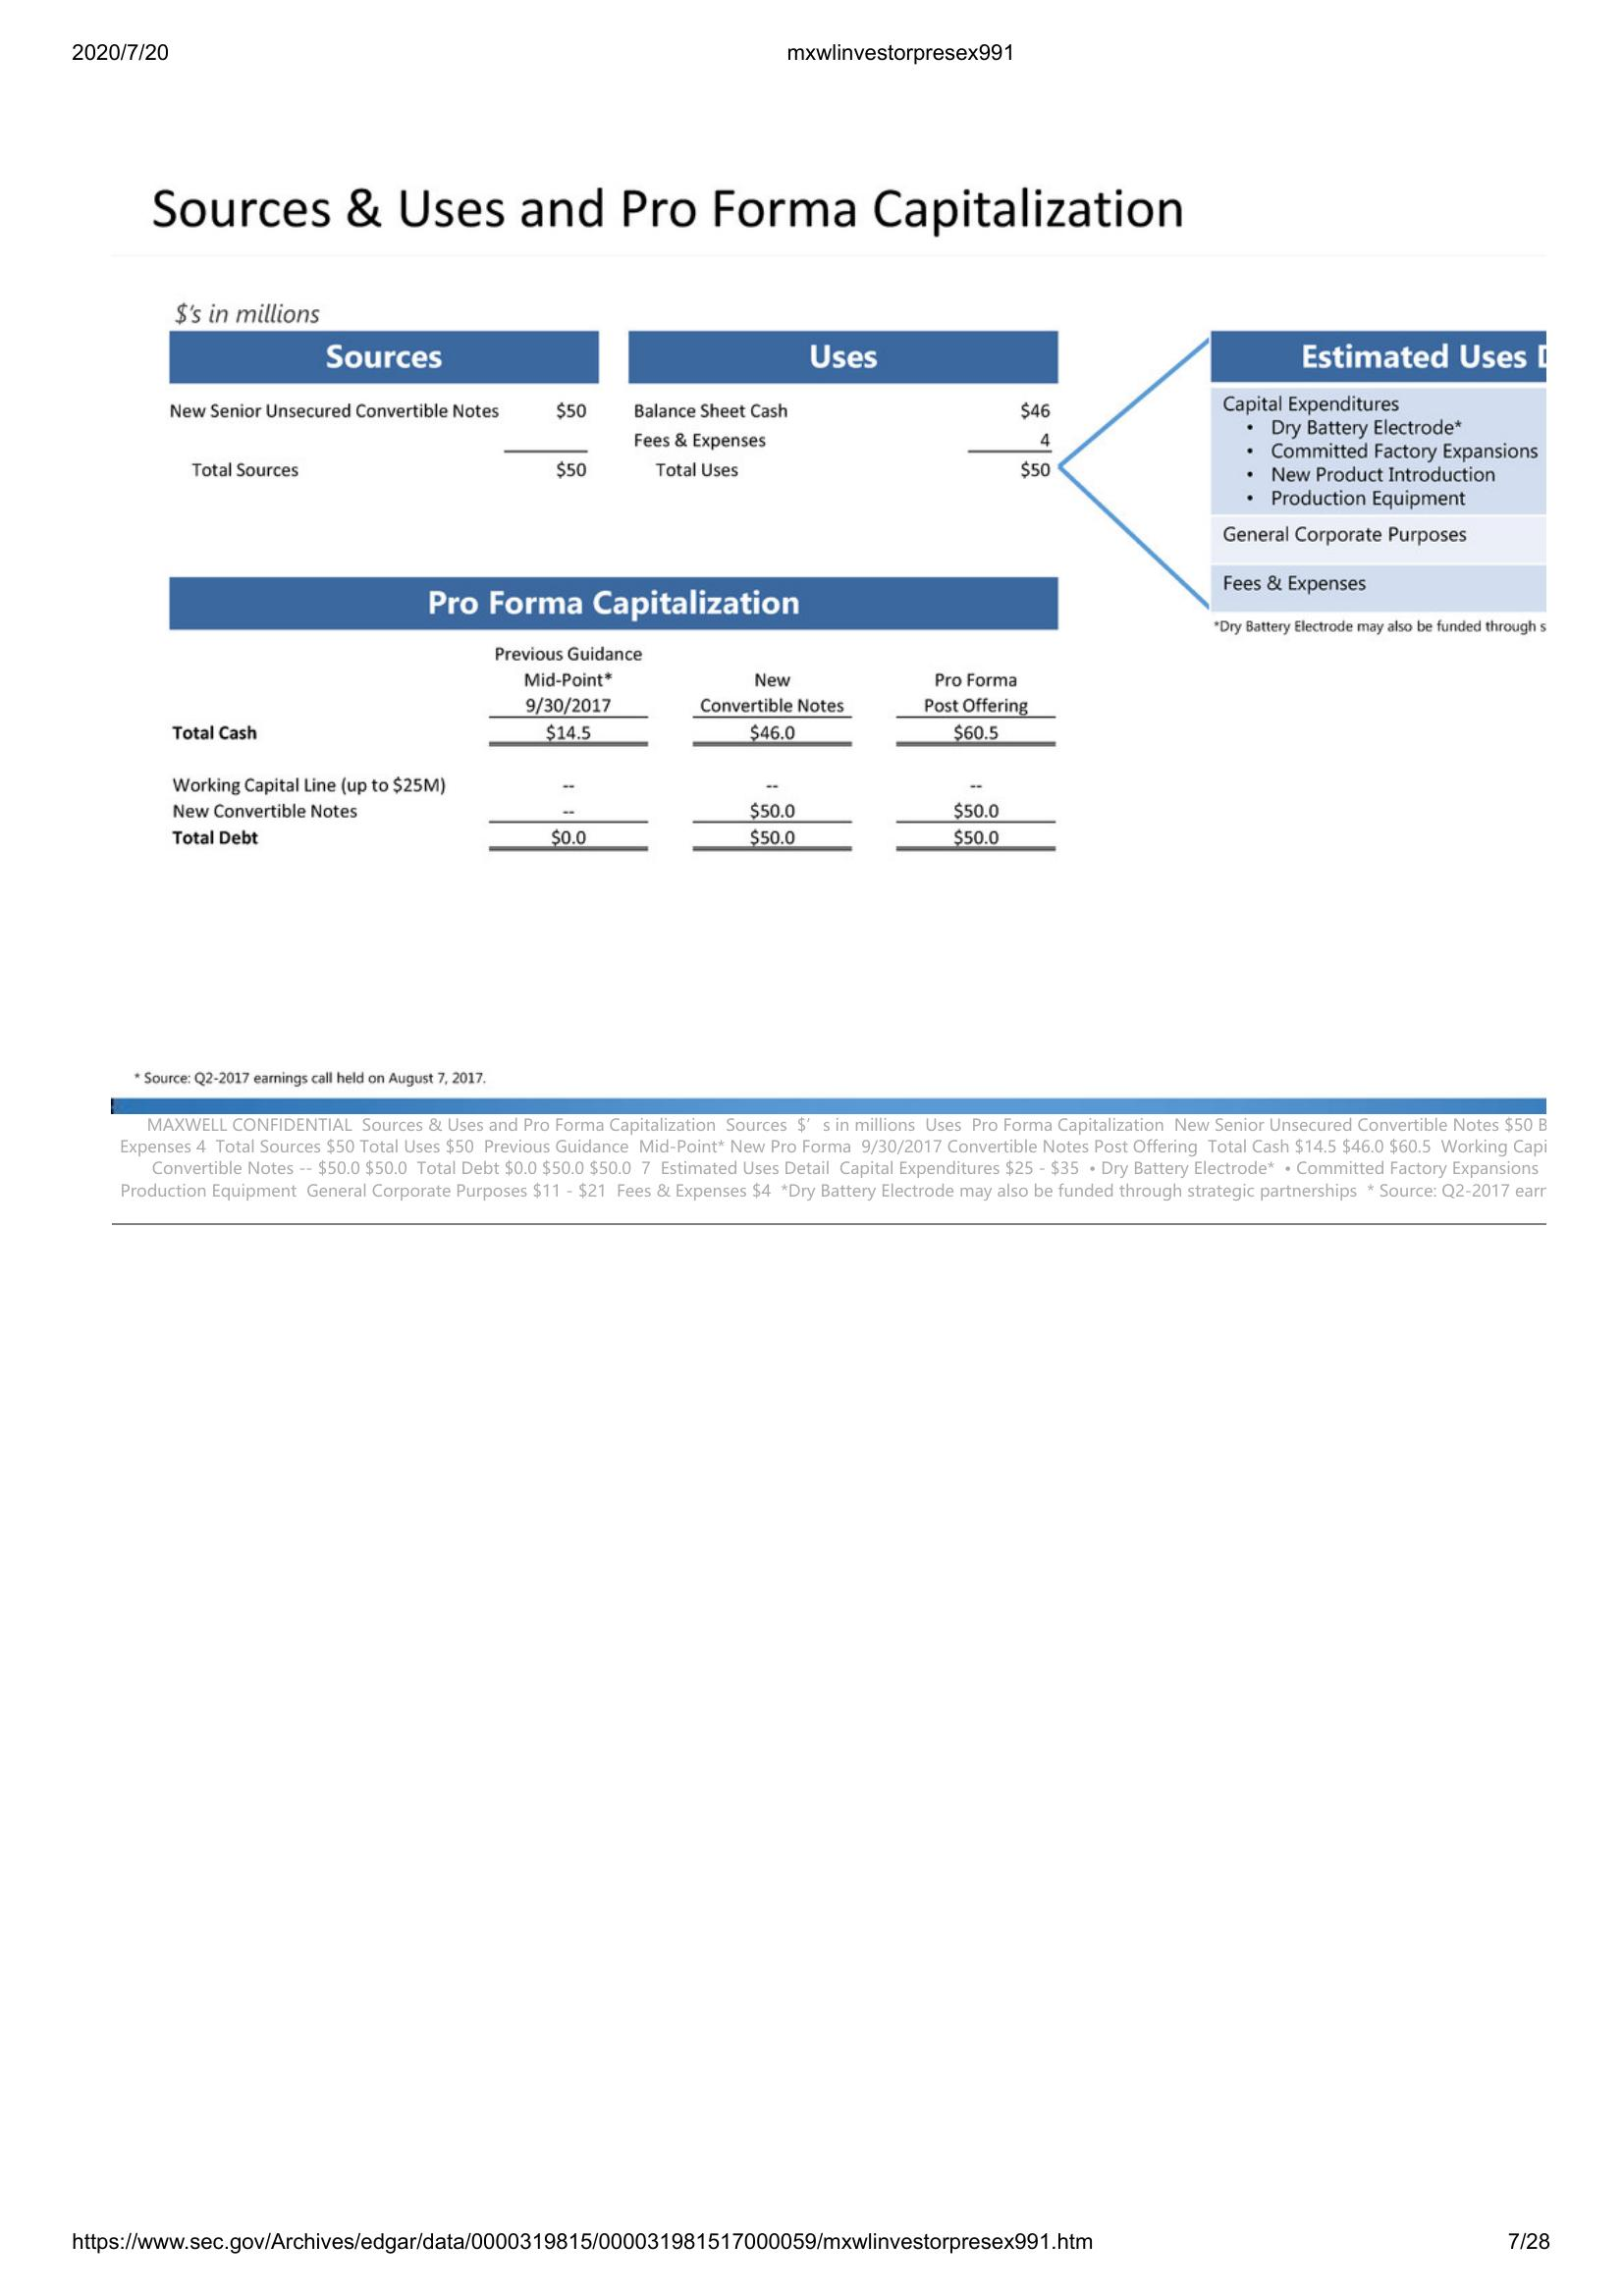table: (160, 567, 1068, 869), (165, 297, 1066, 520), (1208, 326, 1549, 616)
